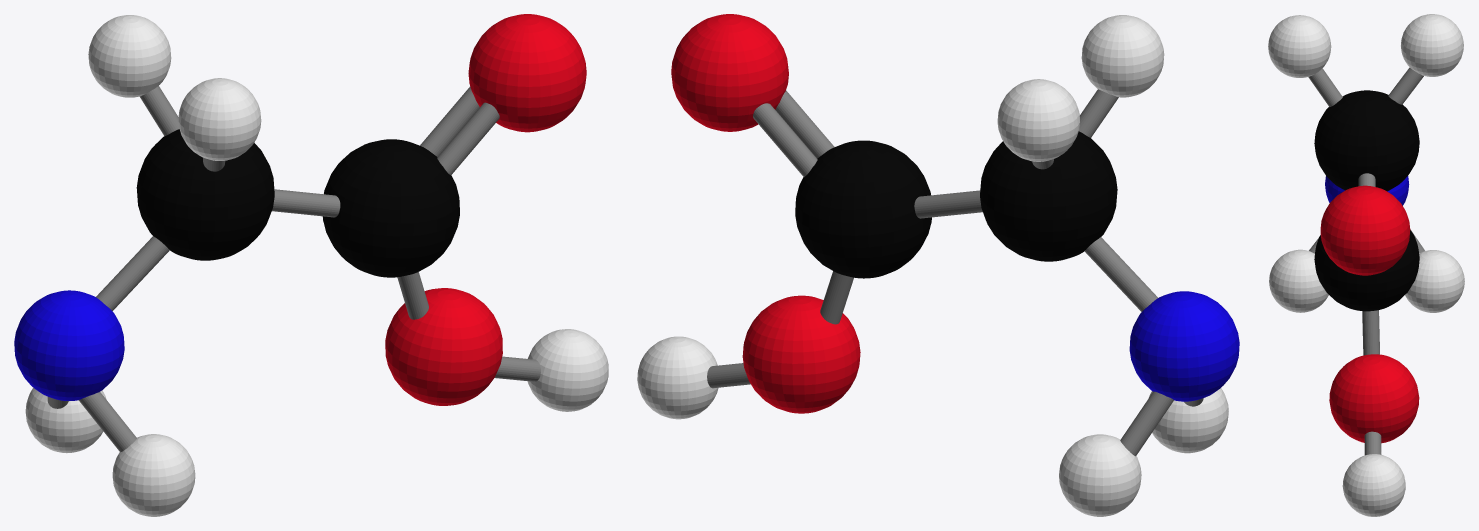
The model's file is CH2NH2COOH.glb.
The picture shows the model from 3 angles, left to right: view 1: azimuth 30°, elevation 25°; view 2: azimuth 150°, elevation 25°; view 3: azimuth 270°, elevation 25°; orthographic projection. The views are drawn at different scales.
Visible parts, largest first — view 1: углерод 1.001, углерод 1, кислород двойной.002, кислород двойной.001, Sphere, Sphere.005, Sphere.004, Sphere.001, водорд 4, Sphere.002, Cylinder.002, Cylinder.011 (+6 smaller); view 2: углерод 1.001, углерод 1, кислород двойной.002, кислород двойной.001, Sphere, Sphere.004, Sphere.005, Sphere.002, водорд 4, Sphere.001, Cylinder.002, Cylinder.010 (+6 smaller); view 3: углерод 1, кислород двойной.002, кислород двойной.001, углерод 1.001, Sphere.005, водорд 4, Sphere.004, Sphere.001, Sphere.002, Cylinder.006, Cylinder.008, Cylinder.009 (+2 smaller).
Part boxes in pixels (x1=…): углерод 1.001: x1=322, y1=139, x2=459, y2=277; углерод 1: x1=136, y1=129, x2=274, y2=260; кислород двойной.002: x1=468, y1=14, x2=586, y2=132; кислород двойной.001: x1=385, y1=288, x2=502, y2=405; Sphere: x1=14, y1=290, x2=124, y2=400; Sphere.005: x1=178, y1=78, x2=261, y2=160; Sphere.004: x1=88, y1=15, x2=171, y2=97; Sphere.001: x1=112, y1=434, x2=195, y2=516; водорд 4: x1=527, y1=329, x2=608, y2=411; Sphere.002: x1=25, y1=388, x2=106, y2=453; Cylinder.002: x1=96, y1=236, x2=169, y2=310; Cylinder.011: x1=437, y1=102, x2=499, y2=174; углерод 1.001: x1=795, y1=140, x2=931, y2=278; углерод 1: x1=980, y1=131, x2=1117, y2=261; кислород двойной.002: x1=671, y1=14, x2=788, y2=131; кислород двойной.001: x1=742, y1=295, x2=860, y2=413; Sphere: x1=1129, y1=291, x2=1239, y2=401; Sphere.004: x1=997, y1=79, x2=1079, y2=161; Sphere.005: x1=1081, y1=15, x2=1164, y2=97; Sphere.002: x1=1059, y1=434, x2=1141, y2=516; водорд 4: x1=637, y1=336, x2=718, y2=419; Sphere.001: x1=1149, y1=388, x2=1228, y2=453; Cylinder.002: x1=1084, y1=237, x2=1157, y2=311; Cylinder.010: x1=753, y1=103, x2=817, y2=176; углерод 1: x1=1314, y1=90, x2=1419, y2=191; кислород двойной.002: x1=1320, y1=185, x2=1410, y2=275; кислород двойной.001: x1=1329, y1=354, x2=1419, y2=443; углерод 1.001: x1=1314, y1=230, x2=1419, y2=311; Sphere.005: x1=1268, y1=15, x2=1331, y2=77; водорд 4: x1=1342, y1=454, x2=1405, y2=516; Sphere.004: x1=1401, y1=14, x2=1463, y2=76; Sphere.001: x1=1269, y1=249, x2=1328, y2=312; Sphere.002: x1=1405, y1=250, x2=1464, y2=312; Cylinder.006: x1=1362, y1=310, x2=1379, y2=355; Cylinder.008: x1=1388, y1=67, x2=1423, y2=104; Cylinder.009: x1=1308, y1=68, x2=1342, y2=106.
Size of the model in its own units: 4.89 by 3.66 by 1.87.
